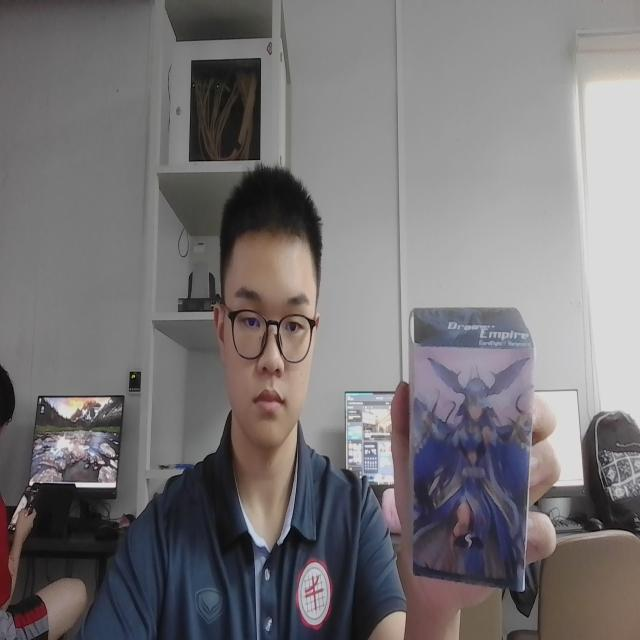box: (400, 290, 540, 608)
